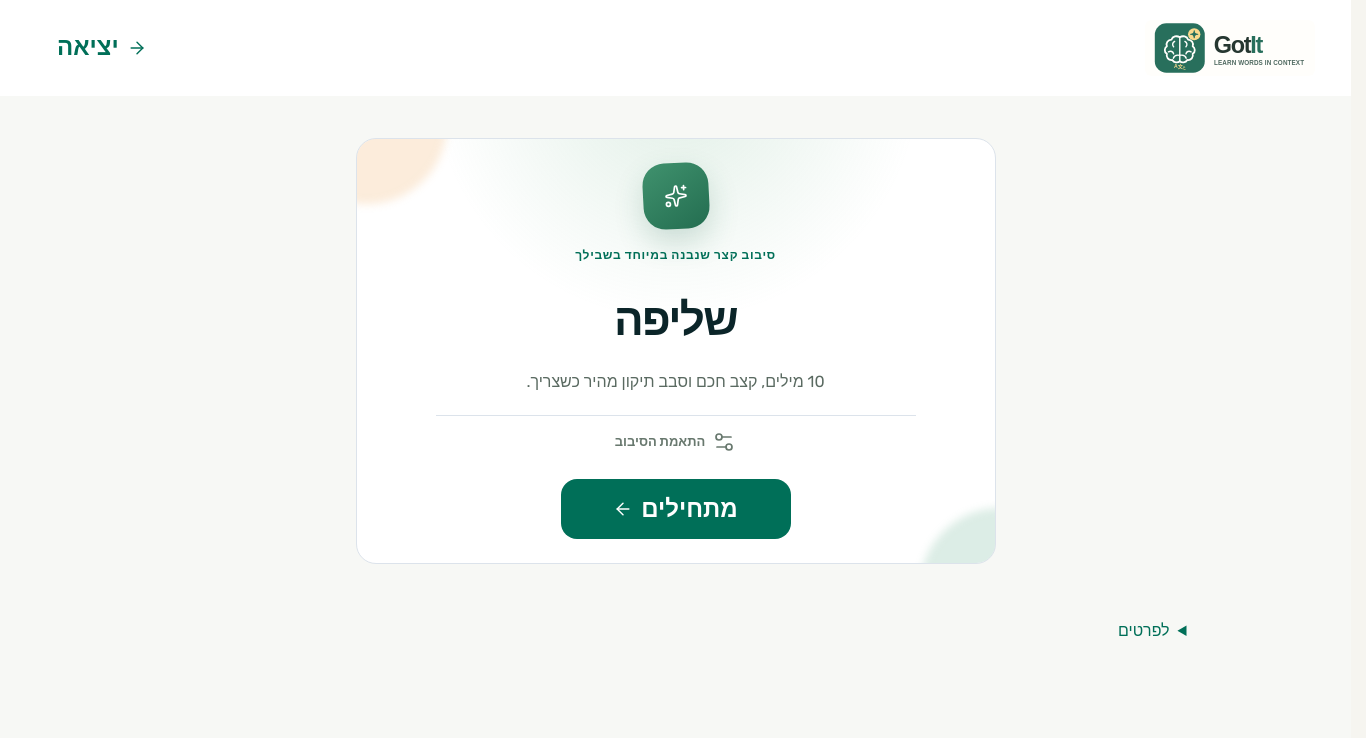
Test case: live server-backed flows › uses an in-app modal before abandoning an active study session
Click the button "מתחילים" at (676, 509), box [560,479,790,539]
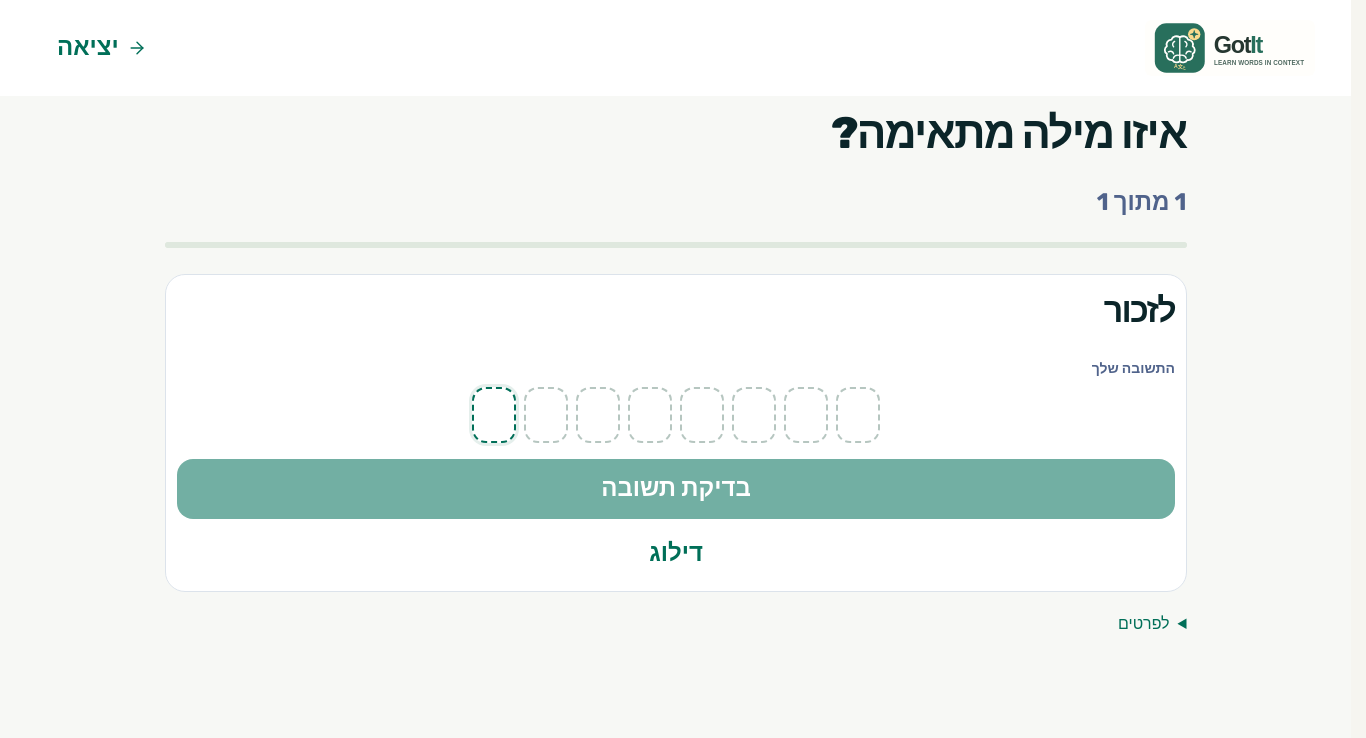
Click the button "יציאה" at (102, 48), box [36,18,168,78]
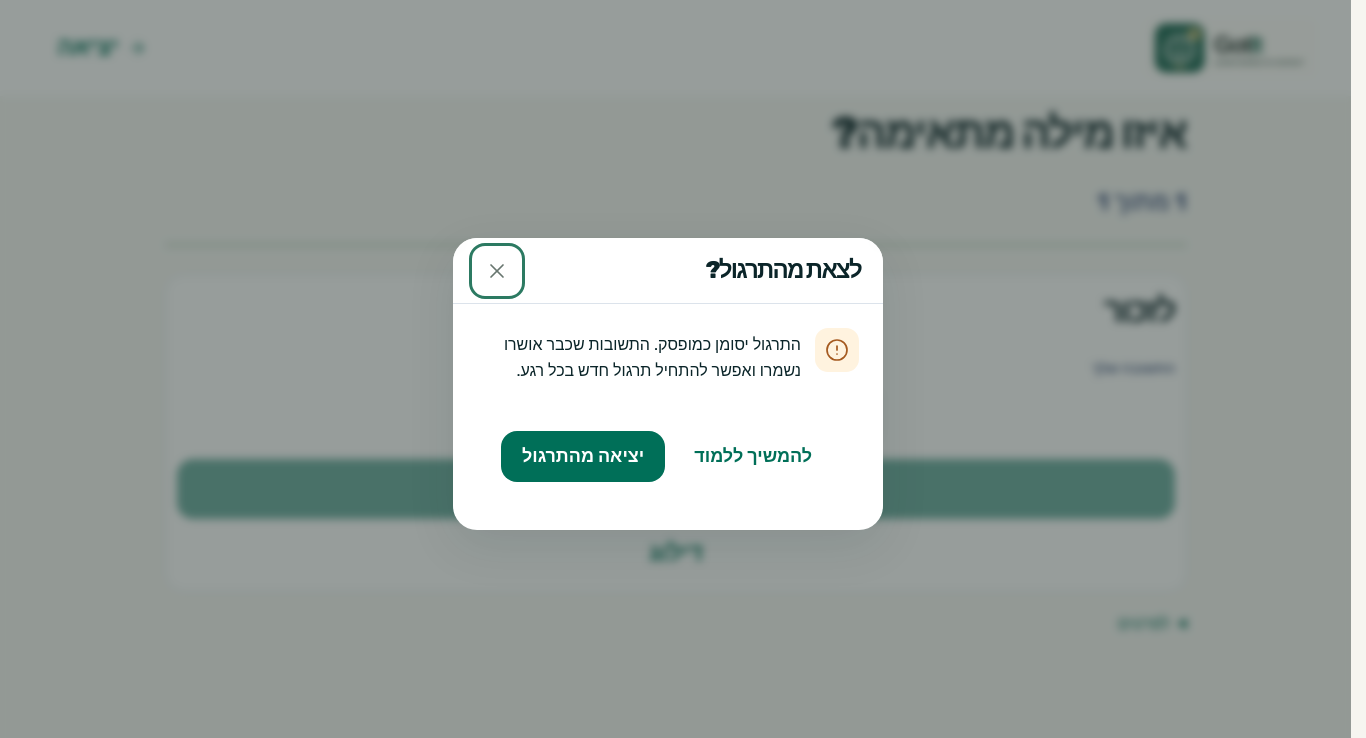
expect the dialog "לצאת מהתרגול?" is shown: met, box [453,238,883,530]
Click the button "להמשיך ללמוד" at (753, 456), box [673,431,833,482]
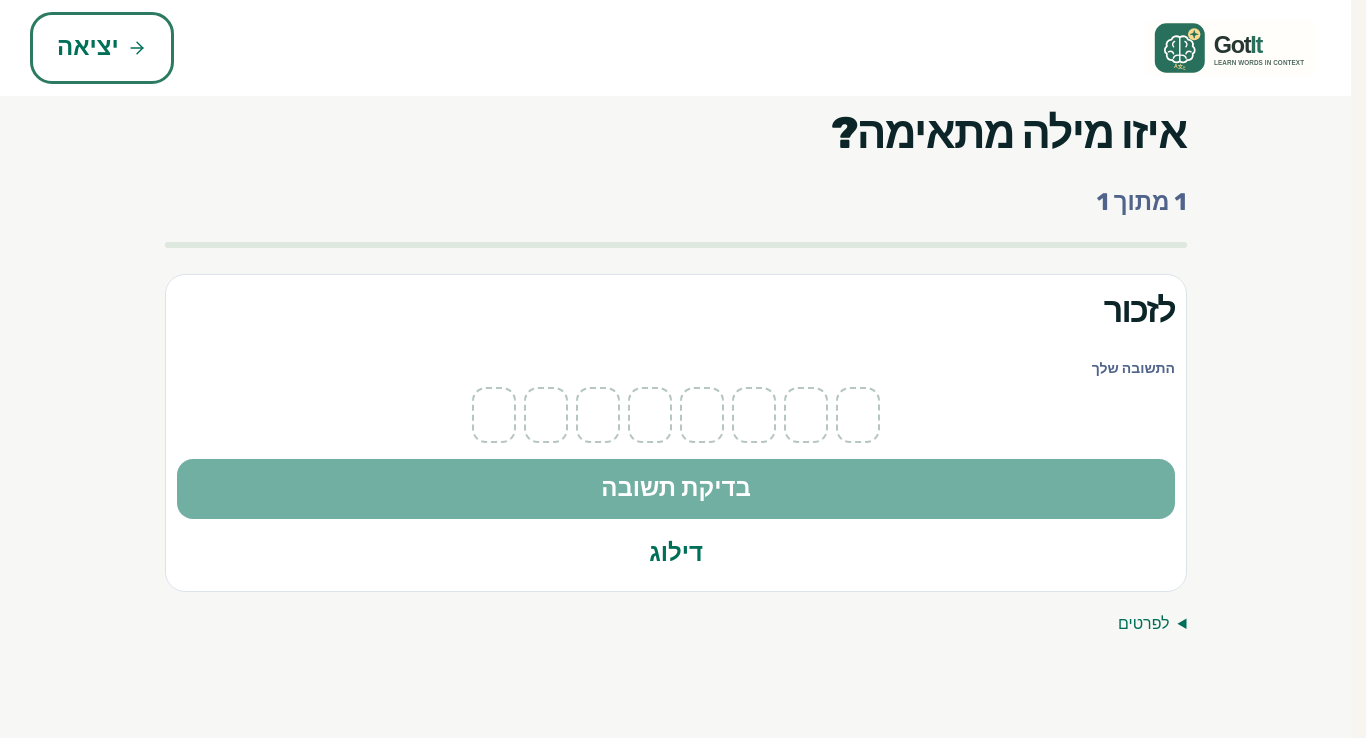
expect the dialog is gone: met
Click the button "יציאה" at (102, 48), box [36,18,168,78]
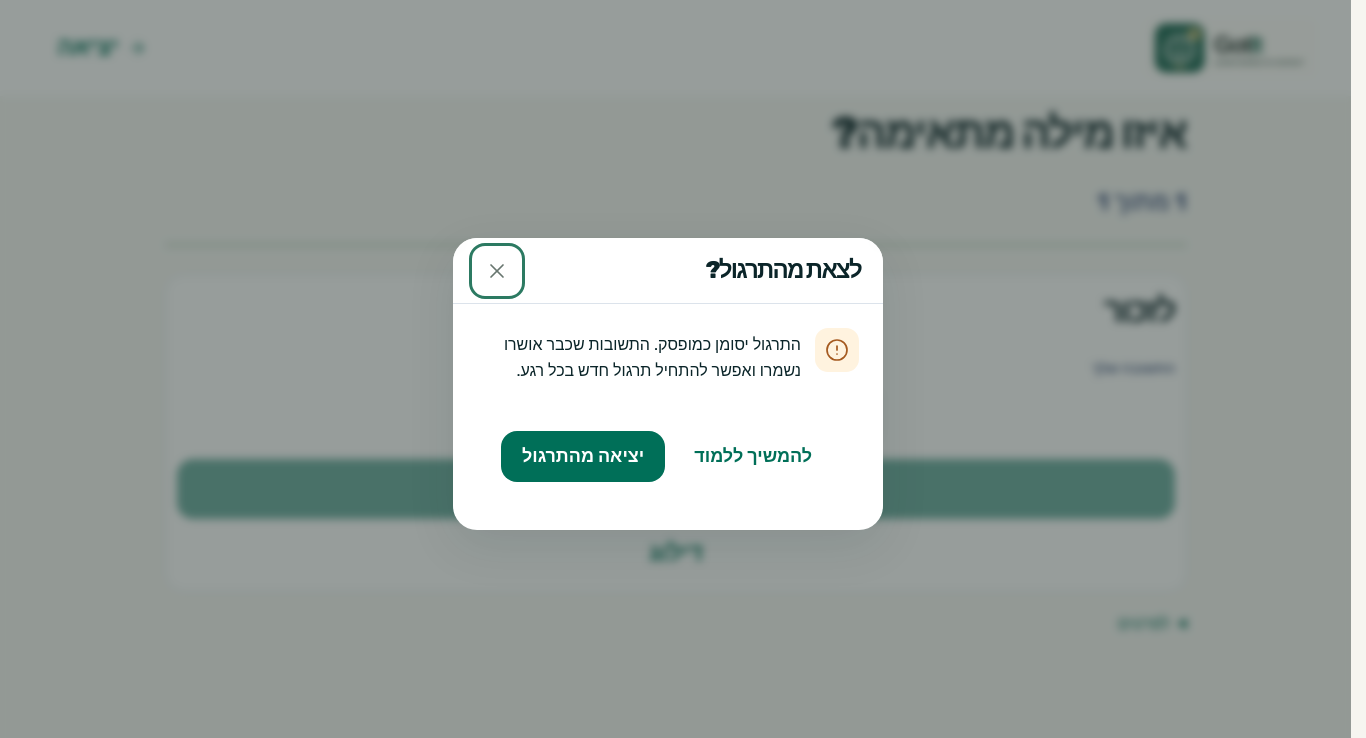
Click the button "יציאה מהתרגול" at (583, 456), box [501,431,665,482]
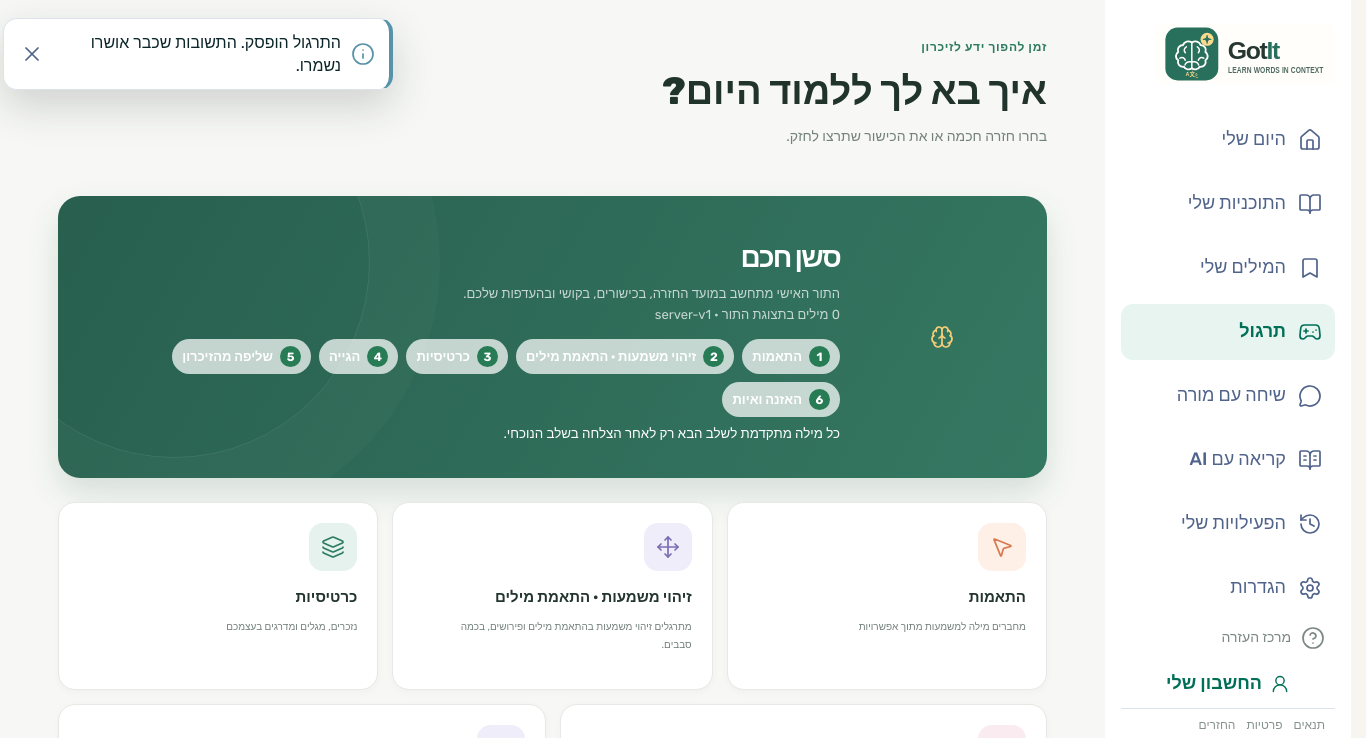
expect the text "התרגול הופסק. התשובות שכבר אושרו נשמרו." is shown: met, box [60,31,341,77]
